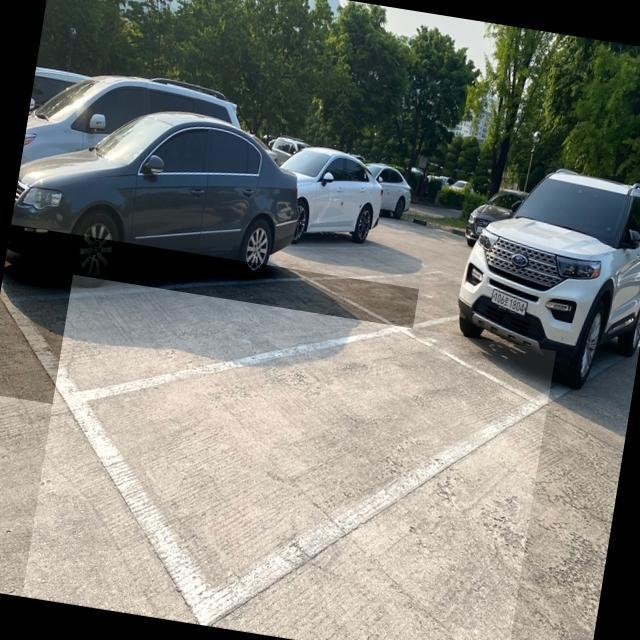empty: (55, 327, 547, 624), (1, 270, 412, 407)
